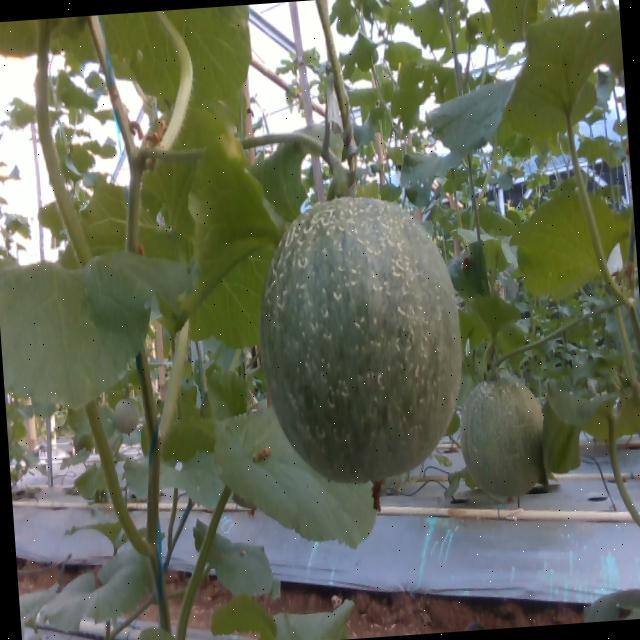melon: (261, 197, 462, 482)
